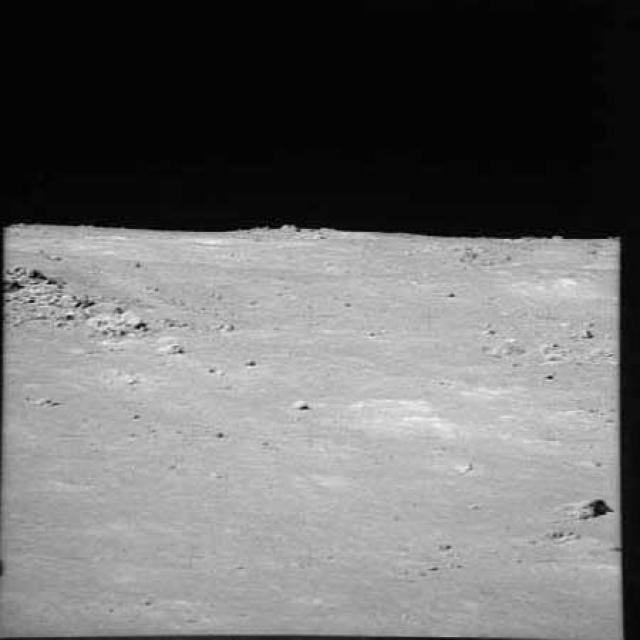rock: (563, 490, 617, 522), (7, 258, 50, 284), (146, 329, 182, 359), (113, 304, 147, 332), (287, 400, 311, 415)
